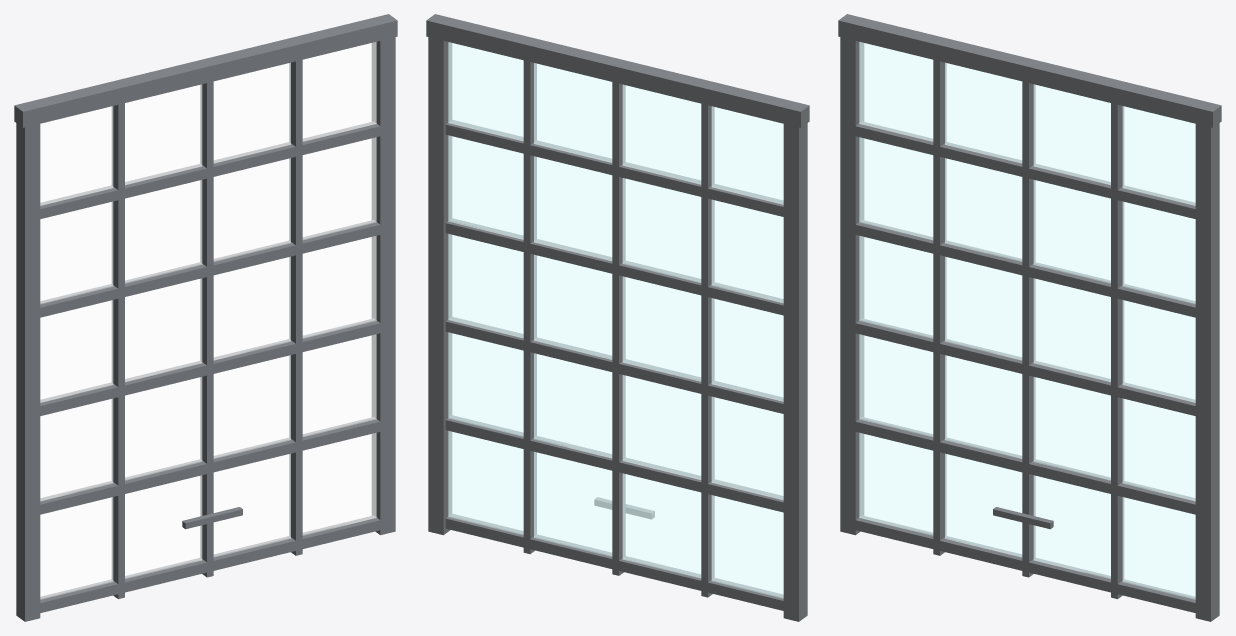
File: garage.glb
3 renders of one model, left to right at view 1: azimuth 30°, elevation 25°; view 2: azimuth 150°, elevation 25°; view 3: azimuth 330°, elevation 25°, orthographic.
Visible parts, largest first — view 1: frame_side, frame_side.001, frame_top, pane.009, pane.010, pane.005, pane.013, pane.014, pane.006, pane.001, mullion.002, pane.017 (+20 smaller); view 2: frame_side, frame_side.001, frame_top, pane.005, pane.009, pane.013, pane.001, pane.006, pane.014, pane.010, pane.002, pane.015 (+19 smaller); view 3: frame_side.001, frame_side, frame_top, pane.013, pane.010, pane.006, pane.009, pane.014, pane.005, pane.002, mullion, pane.018 (+20 smaller).
Boxes of the visible parts, box(x1,y1,x2,y2) form: frame_side: box(16, 116, 40, 621); frame_side.001: box(372, 29, 395, 535); frame_top: box(14, 14, 397, 127); pane.009: box(125, 278, 202, 381); pane.010: box(213, 256, 290, 360); pane.005: box(125, 377, 202, 480); pane.013: box(125, 180, 202, 283); pane.014: box(213, 158, 290, 261); pane.006: box(213, 355, 290, 458); pane.001: box(125, 475, 202, 578); mullion.002: box(289, 52, 302, 555); pane.017: box(125, 84, 202, 184); frame_side: box(783, 116, 807, 621); frame_side.001: box(428, 29, 451, 535); frame_top: box(426, 14, 809, 127); pane.005: box(622, 375, 701, 479); pane.009: box(622, 276, 701, 381); pane.013: box(622, 178, 701, 282); pane.001: box(622, 473, 701, 578); pane.006: box(534, 353, 612, 458); pane.014: box(534, 156, 612, 260); pane.010: box(534, 255, 612, 359); pane.002: box(534, 452, 612, 556); pane.015: box(448, 135, 523, 239); frame_side.001: box(1195, 116, 1219, 621); frame_side: box(840, 29, 863, 535); frame_top: box(838, 14, 1221, 127); pane.013: box(945, 158, 1022, 261); pane.010: box(1033, 278, 1110, 381); pane.006: box(1033, 377, 1110, 480); pane.009: box(945, 256, 1022, 360); pane.014: box(1033, 180, 1110, 283); pane.005: box(945, 355, 1022, 458); pane.002: box(1033, 475, 1110, 578); mullion: box(933, 52, 946, 555); pane.018: box(1033, 84, 1110, 184).
Size of the model in its own units: 1.95 by 2.54 by 0.115.
